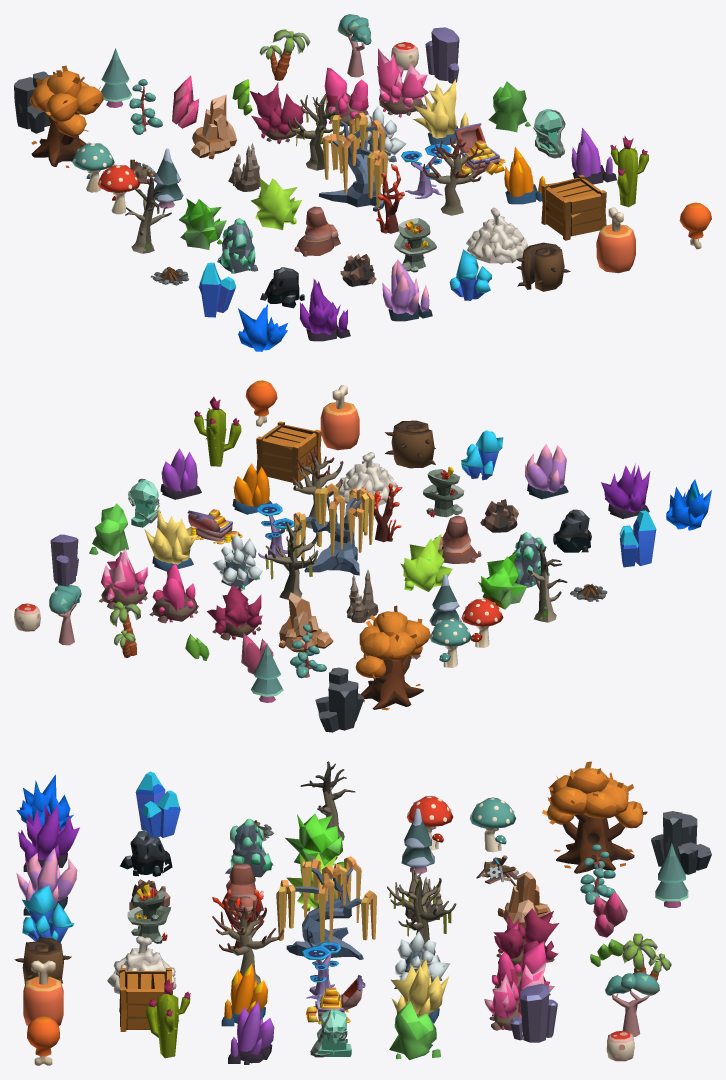
File: uploads_files_3462070_NatureAssetsUniverse.fbx
The picture shows the model from 3 angles, top to bottom: view 1: azimuth 30°, elevation 25°; view 2: azimuth 150°, elevation 25°; view 3: azimuth 270°, elevation 25°; orthographic projection. The views are drawn at different scales.
Parts seen in each view (by area): view 1: WillowTree, RedOakTree, Box, RubyTier2, BonePile, RubyTier3, BoneBitA, BearPiece, AmethistTier2, Tier2Sulfur, AmethistTier3, Sandstone (+36 smaller); view 2: RedOakTree, WillowTree, Box, HexaRock, Tier2Sulfur, RubyTier3, BoneBitA, BearPiece, RubyTier2, UraniumTier3, AmethistTier2, AmethistTier3 (+36 smaller); view 3: RedOakTree, WillowTree, HexaRock, Box, AmethistTier3, CrystalBlue, RockLarge, RubyTier3, BoneBitA, CrystalDark, Tier2Sulfur, AmethistTier2 (+36 smaller).
Boxes of the visible parts, x1=… form: WillowTree: x1=319, y1=112, x2=387, y2=211; RedOakTree: x1=30, y1=65, x2=103, y2=167; Box: x1=541, y1=175, x2=606, y2=240; RubyTier2: x1=377, y1=48, x2=428, y2=117; BonePile: x1=466, y1=207, x2=528, y2=264; RubyTier3: x1=250, y1=82, x2=305, y2=143; BoneBitA: x1=596, y1=207, x2=635, y2=273; BearPiece: x1=516, y1=242, x2=570, y2=291; AmethistTier2: x1=382, y1=259, x2=432, y2=321; Tier2Sulfur: x1=413, y1=79, x2=468, y2=145; AmethistTier3: x1=299, y1=278, x2=350, y2=341; Sandstone: x1=191, y1=94, x2=236, y2=159; RedOakTree: x1=355, y1=605, x2=430, y2=710; WillowTree: x1=293, y1=483, x2=374, y2=575; Box: x1=256, y1=421, x2=321, y2=485; HexaRock: x1=315, y1=667, x2=364, y2=732; Tier2Sulfur: x1=144, y1=507, x2=197, y2=571; RubyTier3: x1=207, y1=585, x2=262, y2=640; BoneBitA: x1=320, y1=385, x2=359, y2=450; BearPiece: x1=385, y1=420, x2=435, y2=468; RubyTier2: x1=99, y1=548, x2=147, y2=609; UraniumTier3: x1=400, y1=534, x2=452, y2=591; AmethistTier2: x1=525, y1=444, x2=568, y2=499; AmethistTier3: x1=601, y1=463, x2=650, y2=518; RedOakTree: x1=542, y1=761, x2=647, y2=873; WillowTree: x1=276, y1=856, x2=376, y2=959; HexaRock: x1=651, y1=811, x2=711, y2=874; Box: x1=119, y1=968, x2=172, y2=1031; AmethistTier3: x1=18, y1=804, x2=79, y2=871; CrystalBlue: x1=135, y1=771, x2=180, y2=837; RockLarge: x1=510, y1=983, x2=557, y2=1042; RubyTier3: x1=493, y1=908, x2=558, y2=965; BoneBitA: x1=23, y1=960, x2=63, y2=1025; CrystalDark: x1=228, y1=1001, x2=274, y2=1064; Tier2Sulfur: x1=391, y1=958, x2=449, y2=1023; AmethistTier2: x1=16, y1=848, x2=77, y2=915.
Size of the model in its own units: 2449 by 479 by 2909.
